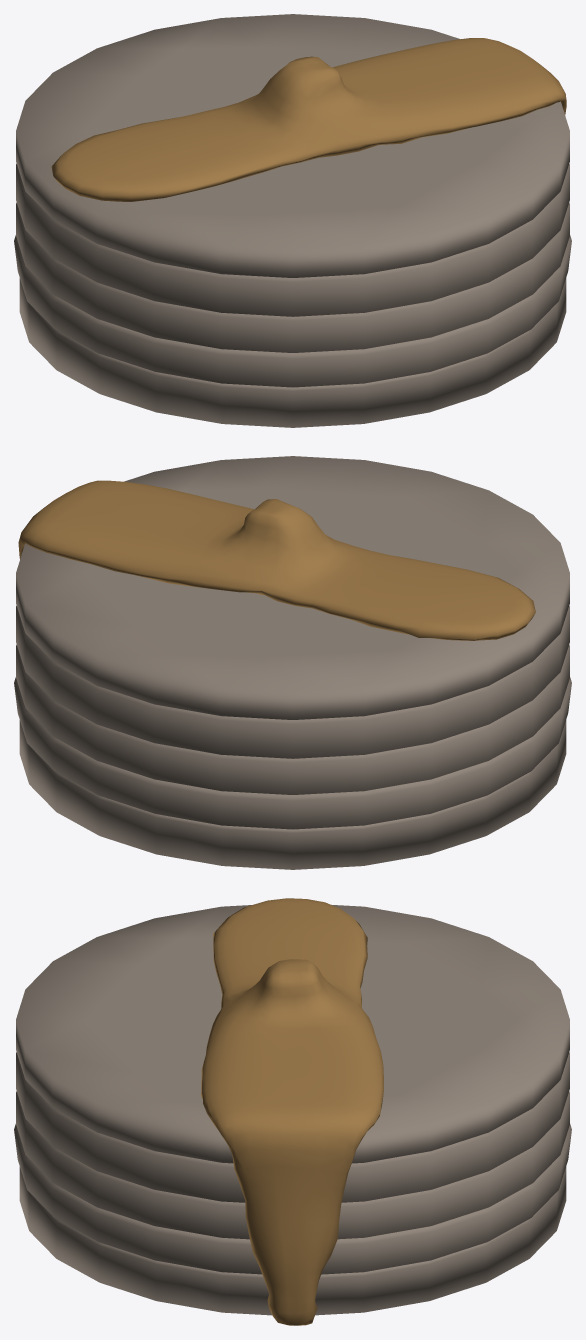
The model's file is pan_cake.fbx.
3 renders of one model, top to bottom at view 1: azimuth 30°, elevation 25°; view 2: azimuth 150°, elevation 25°; view 3: azimuth 270°, elevation 25°, orthographic.
Parts seen in each view (by area): view 1: polySurface4; view 2: polySurface4; view 3: polySurface4.
Part boxes in pixels (<box>): polySurface4: <box>14,14,571,427</box>; polySurface4: <box>14,456,571,869</box>; polySurface4: <box>14,898,571,1325</box>.
Size of the model in its own units: 5.26 by 2.45 by 5.05.
